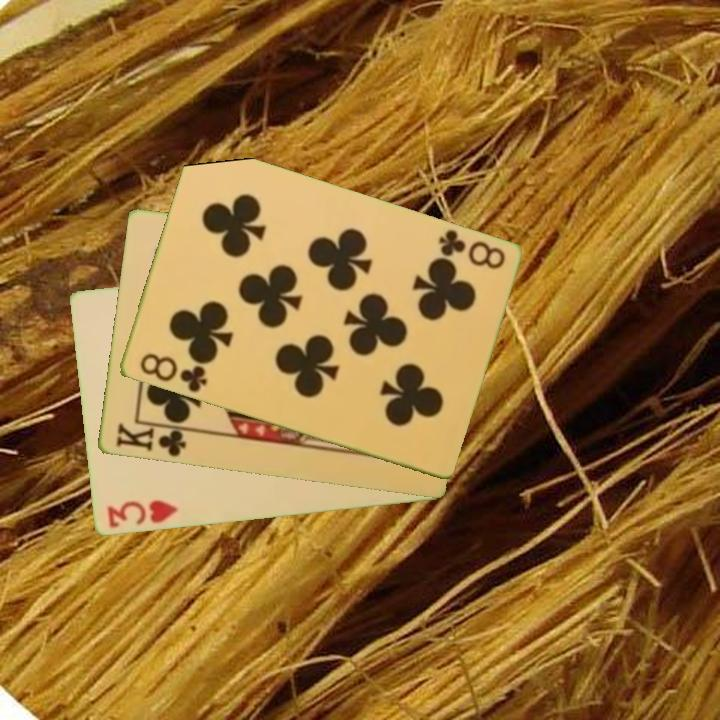3h: (103, 496, 181, 532)
8c: (434, 226, 508, 273), (136, 350, 210, 396)
Kc: (112, 419, 194, 460)
